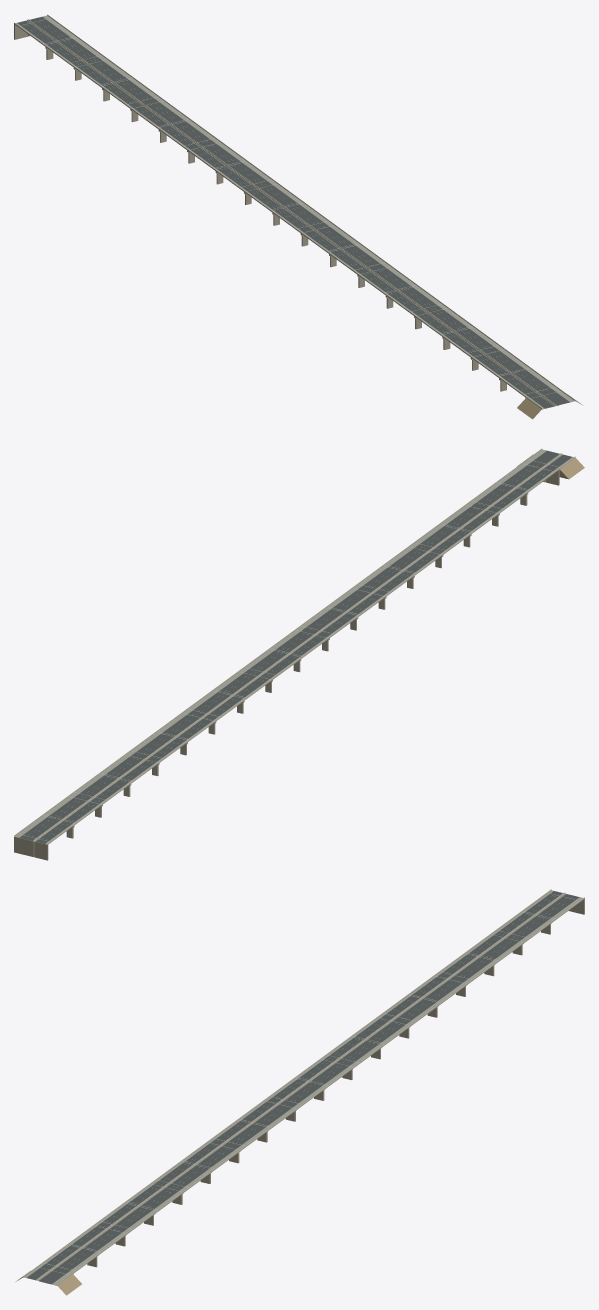
Rendered from m2_chenab_bridge.glb.
3 views of the same model, one above another, from view 1: azimuth 30°, elevation 25°; view 2: azimuth 150°, elevation 25°; view 3: azimuth 330°, elevation 25° (orthographic).
Parts seen in each view (by area): view 1: m_asphalt, m_pale_shoulder, m_parapet, m_pier_concrete, m_deck_joint, m_deck_concrete; view 2: m_asphalt, m_pale_shoulder, m_parapet, m_pier_concrete, m_deck_joint, m_deck_concrete; view 3: m_asphalt, m_pale_shoulder, m_parapet, m_pier_concrete, m_deck_joint.
Part boxes in pixels (bbox=[...]): m_asphalt: bbox=[17, 16, 569, 408]; m_pale_shoulder: bbox=[16, 15, 574, 409]; m_parapet: bbox=[14, 14, 575, 408]; m_pier_concrete: bbox=[14, 24, 558, 409]; m_deck_joint: bbox=[19, 18, 560, 398]; m_deck_concrete: bbox=[15, 24, 524, 396]; m_asphalt: bbox=[19, 450, 571, 843]; m_pale_shoulder: bbox=[15, 449, 573, 844]; m_parapet: bbox=[14, 448, 575, 844]; m_pier_concrete: bbox=[14, 469, 559, 860]; m_deck_joint: bbox=[20, 460, 559, 841]; m_deck_concrete: bbox=[48, 470, 558, 844]; m_asphalt: bbox=[27, 891, 579, 1284]; m_pale_shoulder: bbox=[24, 890, 582, 1285]; m_parapet: bbox=[23, 889, 584, 1285]; m_pier_concrete: bbox=[39, 898, 584, 1285]; m_deck_joint: bbox=[38, 893, 579, 1274].
Size of the model in its own units: 55.52 by 17 by 968.
